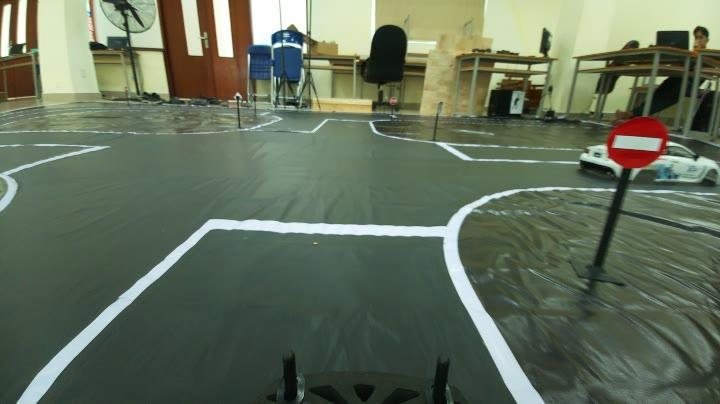no_entry: (604, 108, 668, 167)
